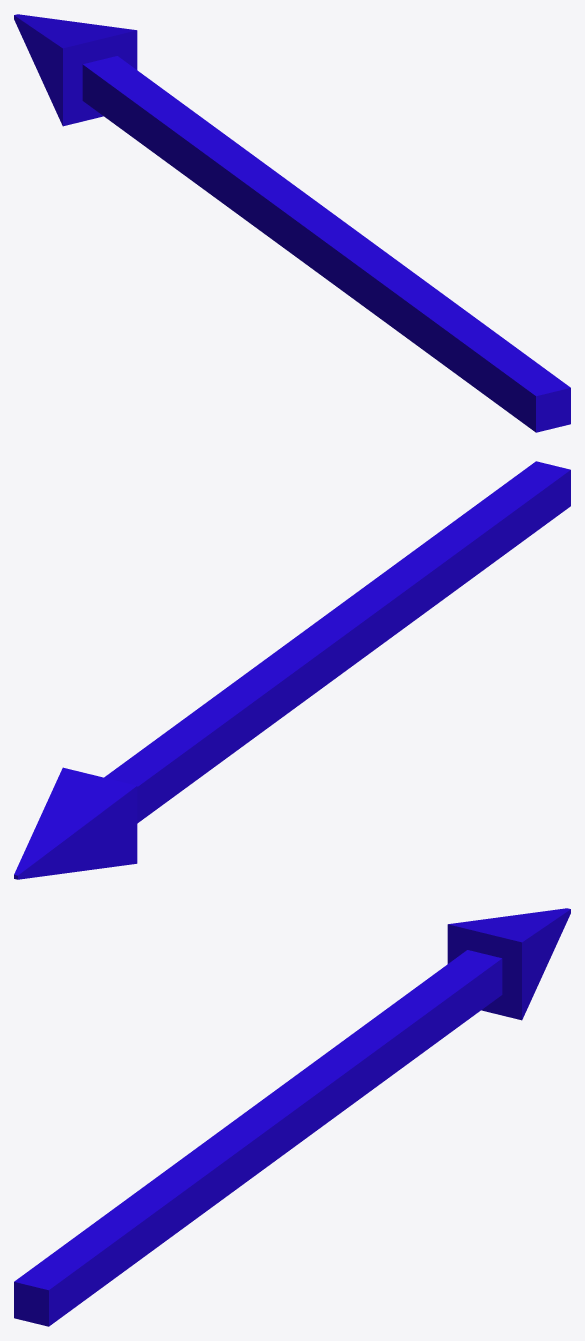
3 renders of one model, top to bottom at view 1: azimuth 30°, elevation 25°; view 2: azimuth 150°, elevation 25°; view 3: azimuth 330°, elevation 25°, orthographic.
Parts seen in each view (by area): view 1: Cube.001; view 2: Cube.001; view 3: Cube.001.
Part boxes in pixels (x1,y1,x2,y2): Cube.001: (14, 14, 570, 432); Cube.001: (14, 461, 570, 879); Cube.001: (14, 908, 570, 1326).
Bounding box in the file's own units: 0.1897 × 0.1897 × 2.37.
